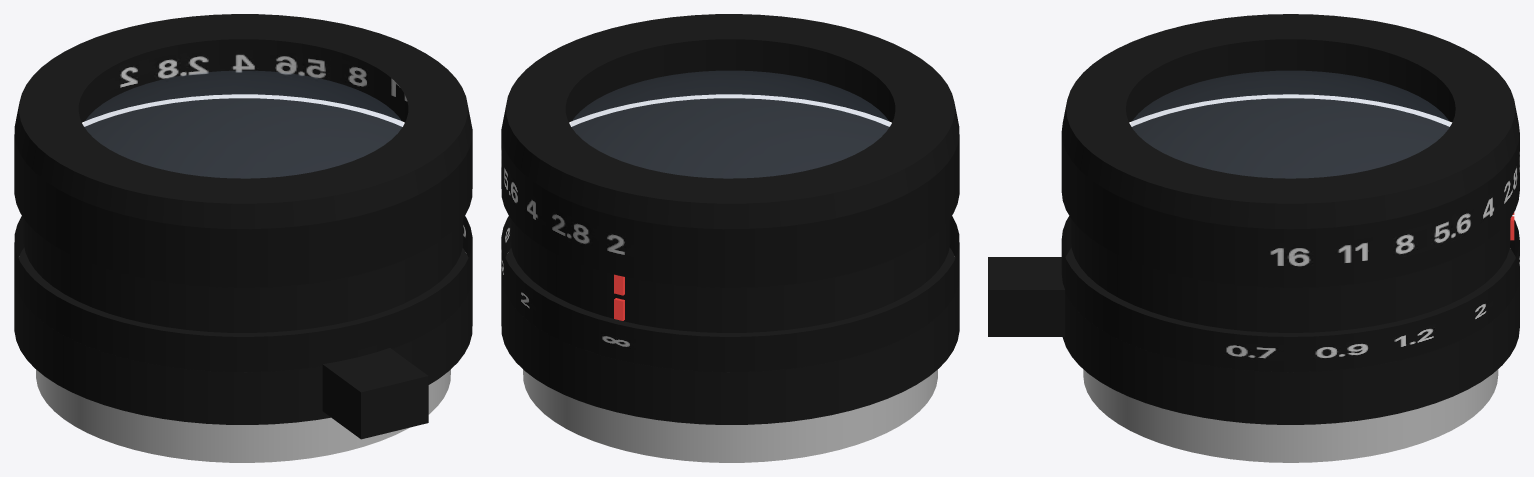
The model's file is lens-m-35-2.glb.
3 renders of one model, left to right at view 1: azimuth 30°, elevation 25°; view 2: azimuth 150°, elevation 25°; view 3: azimuth 270°, elevation 25°, orthographic.
Visible parts, largest first — view 1: lens, focus-ring, aperture-ring; view 2: lens, focus-ring, aperture-ring; view 3: lens, focus-ring, aperture-ring.
Boxes of the visible parts, bbox=[...] form: lens: bbox=[14, 14, 472, 462]; focus-ring: bbox=[14, 216, 472, 439]; aperture-ring: bbox=[14, 39, 472, 287]; lens: bbox=[501, 14, 959, 462]; focus-ring: bbox=[501, 216, 959, 424]; aperture-ring: bbox=[501, 39, 959, 287]; lens: bbox=[1061, 14, 1519, 462]; focus-ring: bbox=[988, 216, 1519, 424]; aperture-ring: bbox=[1061, 39, 1519, 287].
Bounding box in the file's own units: 0.053 × 0.0342 × 0.0615.
6 materials, 2 textured.
